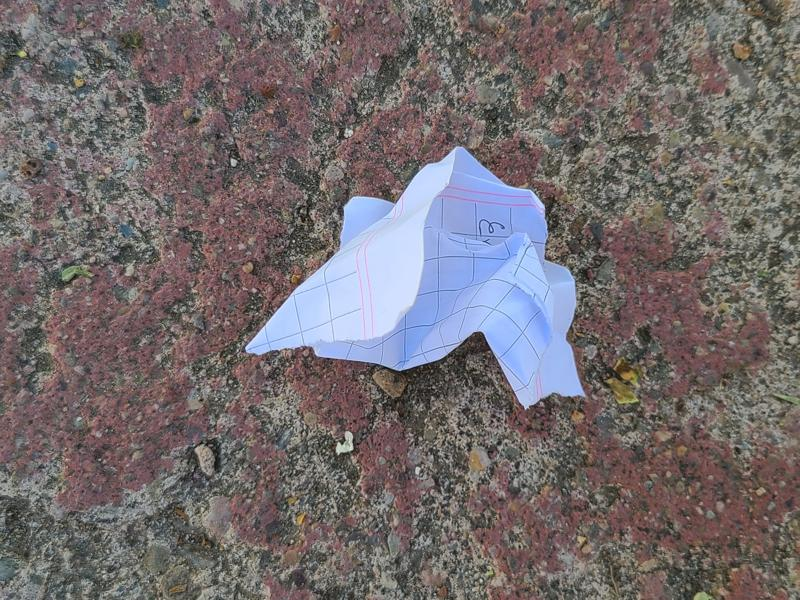papel: (243, 148, 584, 410)
